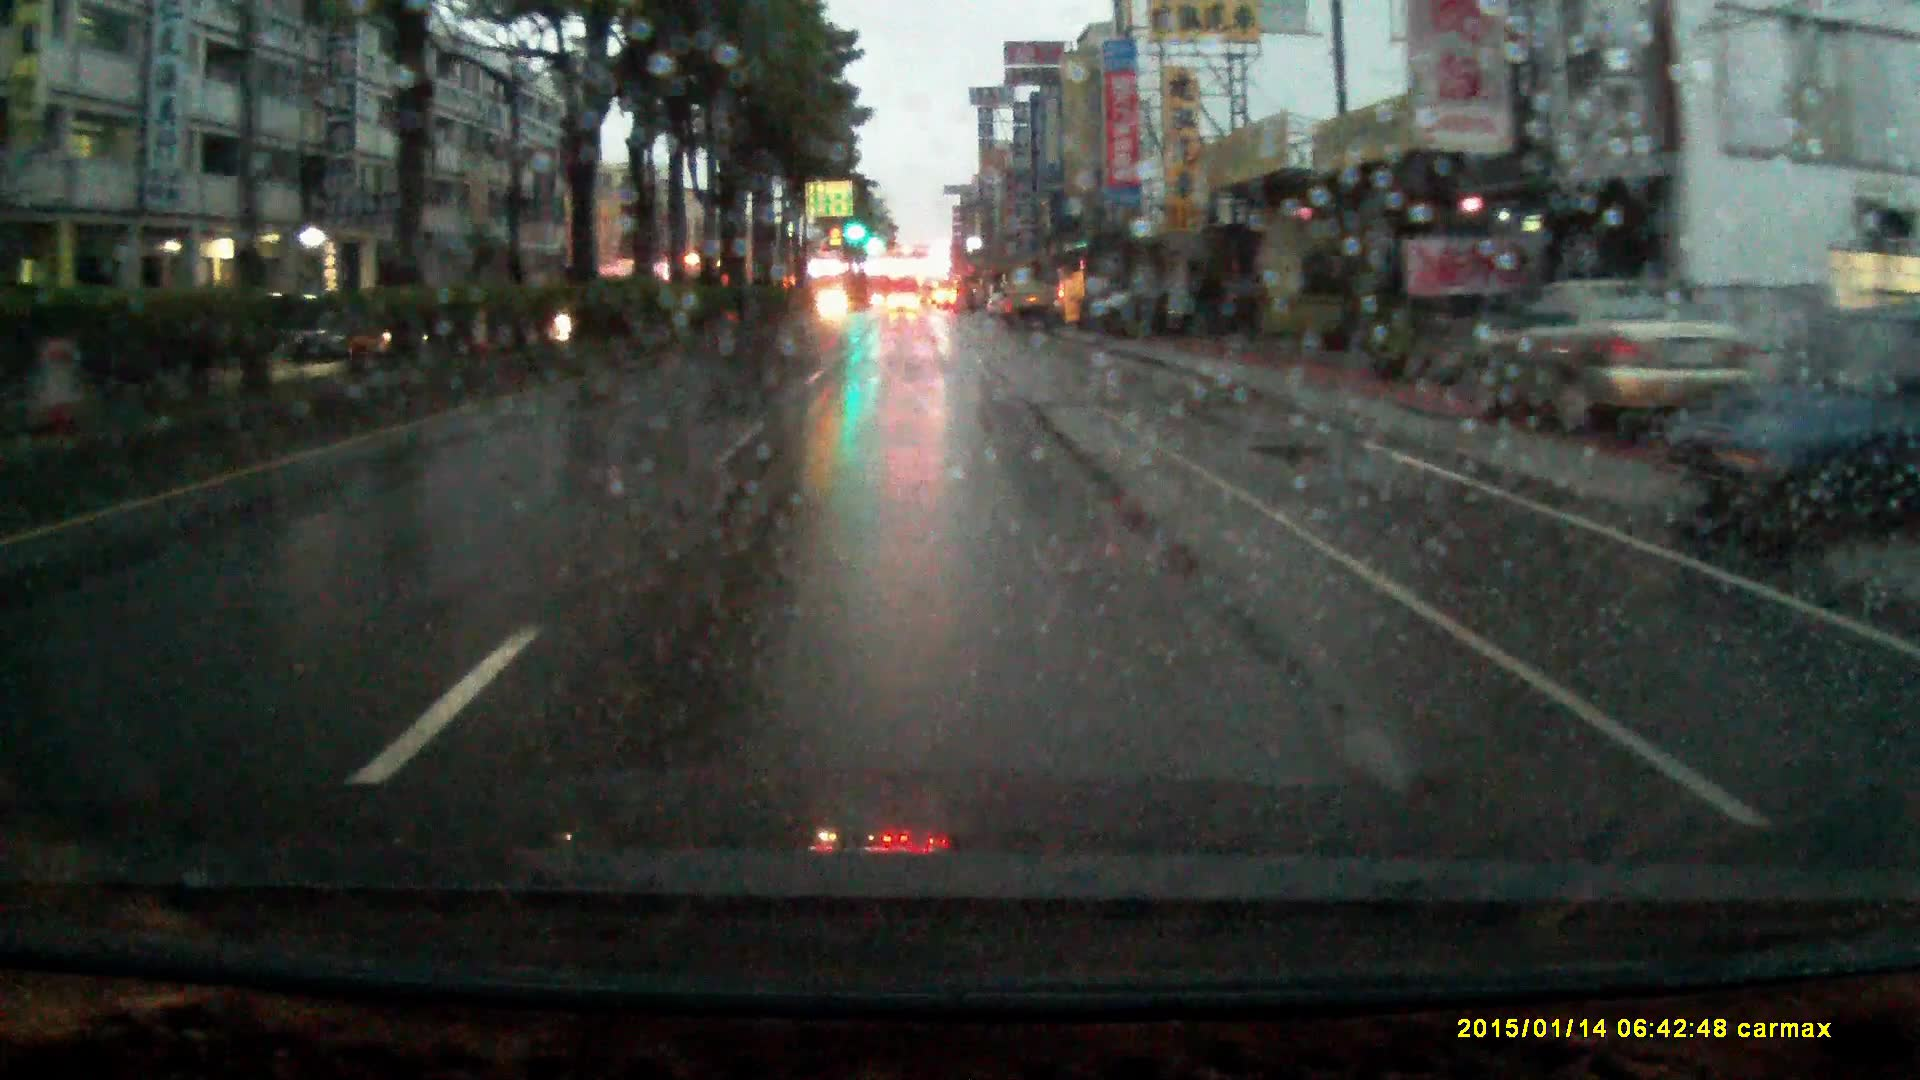vehicle: (1642, 301, 1920, 553), (1502, 280, 1760, 446), (1080, 281, 1255, 338), (1004, 282, 1054, 336), (886, 293, 920, 316)
